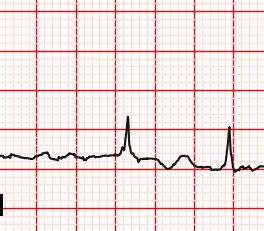T inversion: (152, 151, 183, 173)
